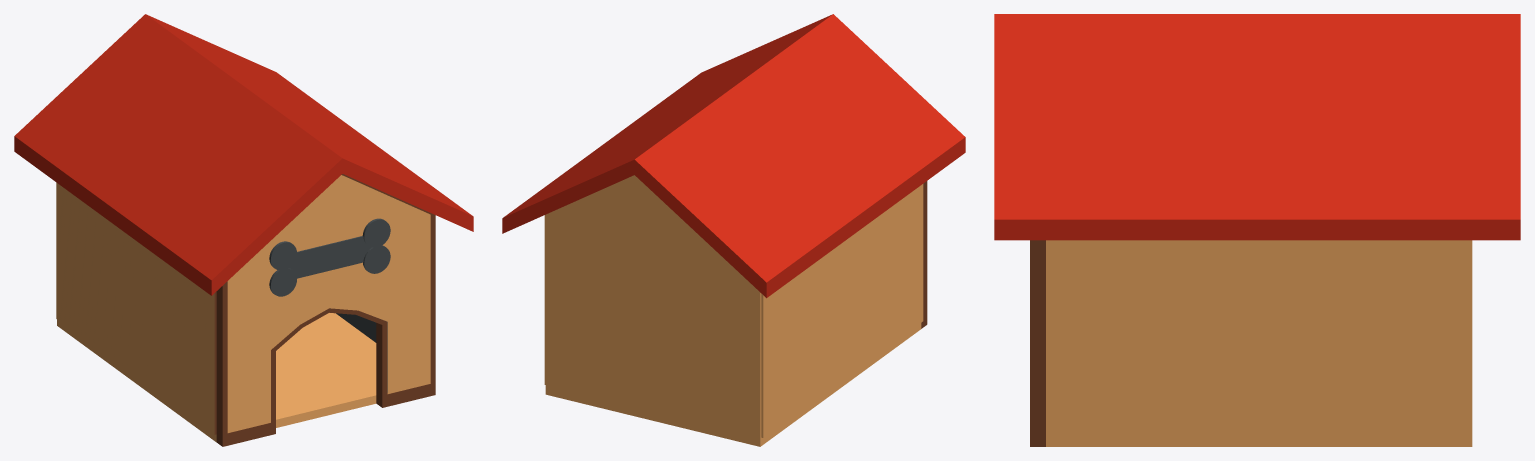
The model's file is Dog_house.glb.
3 renders of one model, left to right at view 1: azimuth 30°, elevation 25°; view 2: azimuth 150°, elevation 25°; view 3: azimuth 270°, elevation 25°, orthographic. The views are drawn at different scales.
Visible parts, largest first — view 1: Dog house; view 2: Dog house; view 3: Dog house.
Boxes of the visible parts, x1,y1,x2,y2 form: Dog house: (14,14,473,446); Dog house: (502,14,965,446); Dog house: (994,14,1520,446).
Bounding box in the file's own units: 1.31 × 1.3 × 1.7.
